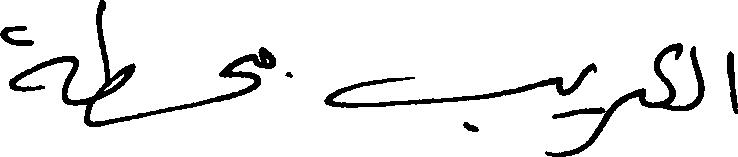X: (324, 72, 558, 156), (0, 21, 77, 110), (96, 0, 135, 131), (218, 43, 260, 106), (598, 83, 642, 140), (654, 38, 680, 115), (689, 41, 705, 114), (585, 58, 596, 153), (727, 46, 737, 118), (262, 42, 275, 73)
